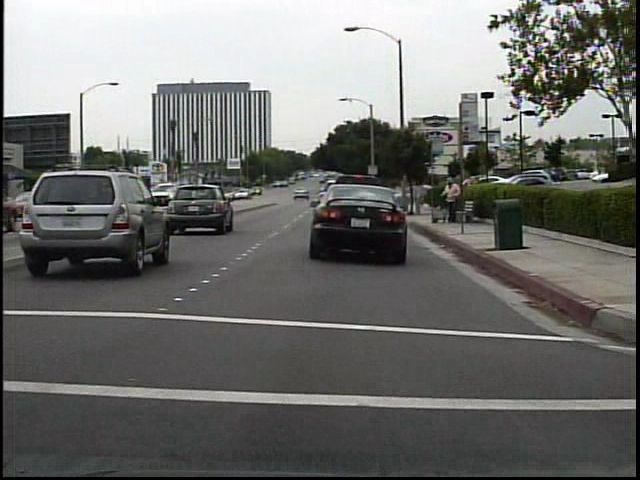person: (439, 175, 463, 227), (408, 177, 430, 219)
